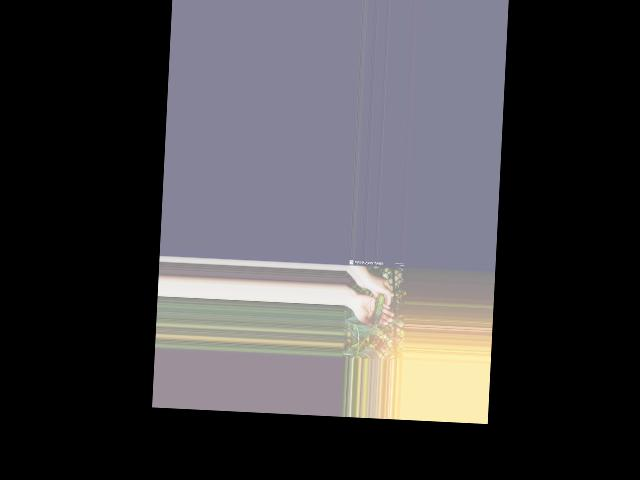cucumber: (371, 294, 384, 324)
